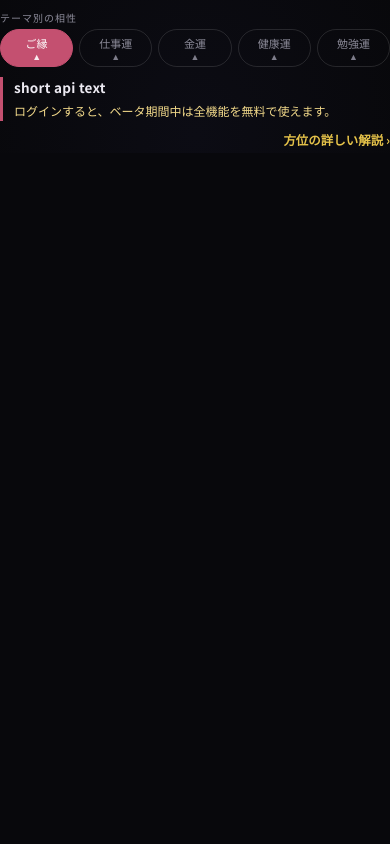
FusionCard → L3ボトムシート（PR-5） › 「方位の詳しい解説」でL3シートが開き、スクリムタップで閉じる
The image size is (390, 844).
Expected: the text "short api text" is shown, [14, 77, 106, 97]
Click the button "方位の詳しい解説 ›": (337, 140) [283, 127, 389, 153]
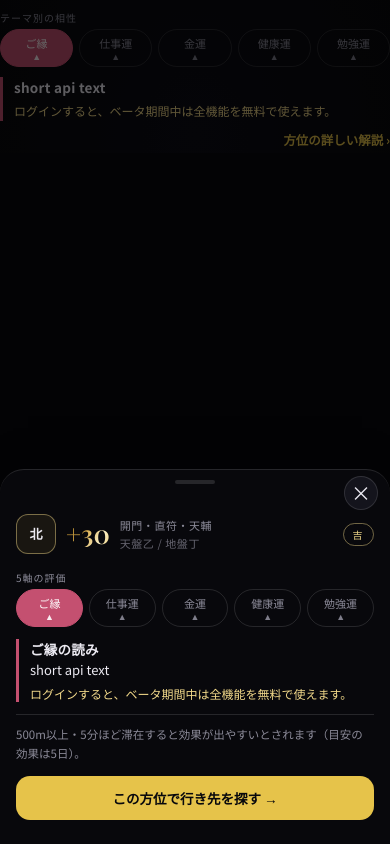
Now the dialog is shown, box [0, 469, 389, 843]
Click the element with class "l3-overlay": (195, 422) [0, 0, 389, 843]
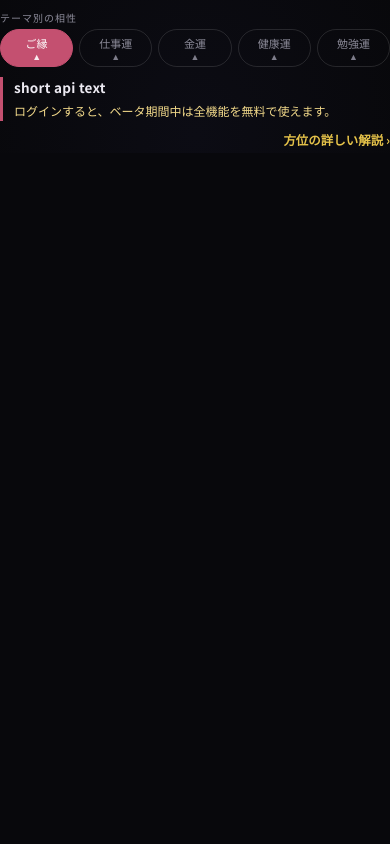
Now the dialog is gone
